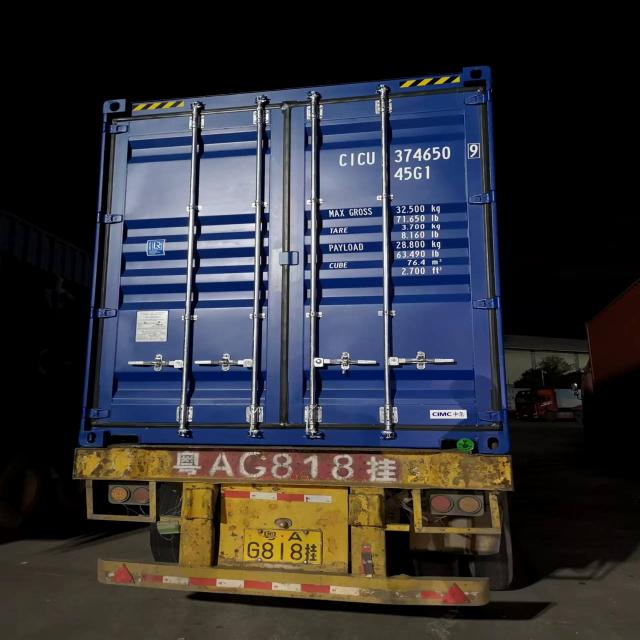seal: (338, 351, 356, 378)
